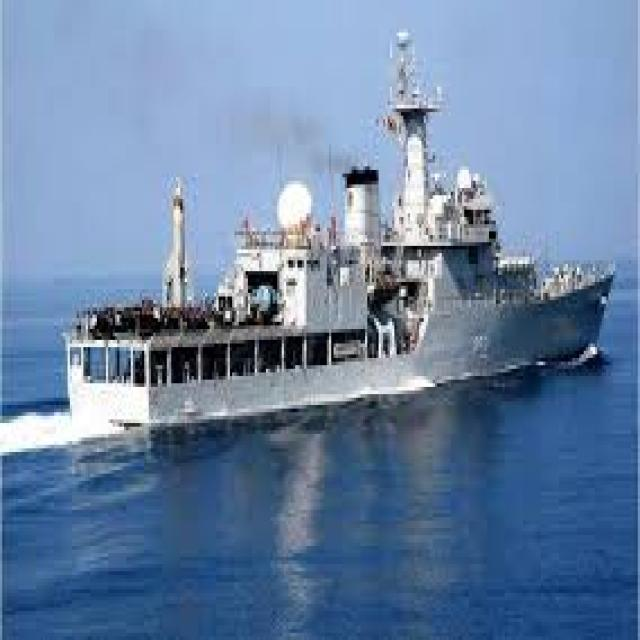navalvessels: (64, 32, 616, 444)
